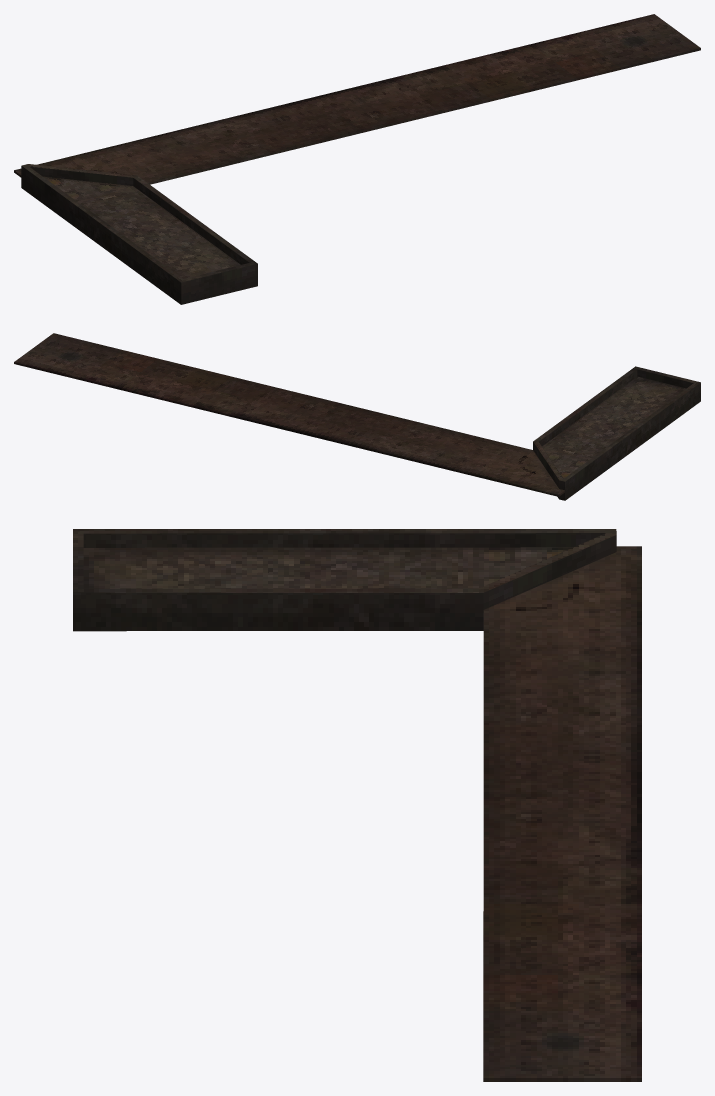
The model's file is misc_tool_mx_1.glb.
3 views of the same model, one above another, from view 1: azimuth 30°, elevation 25°; view 2: azimuth 150°, elevation 25°; view 3: azimuth 270°, elevation 25° (orthographic). The views are drawn at different scales.
Visible parts, largest first — view 1: misc_tool_mx_1; view 2: misc_tool_mx_1; view 3: misc_tool_mx_1.
Boxes of the visible parts, <box> form: misc_tool_mx_1: <box>14,14,700,304</box>; misc_tool_mx_1: <box>14,333,700,500</box>; misc_tool_mx_1: <box>73,529,641,1081</box>.
Size of the model in its own units: 0.5972 by 0.02 by 0.27.
Materials: 1 (1 with a texture image).
